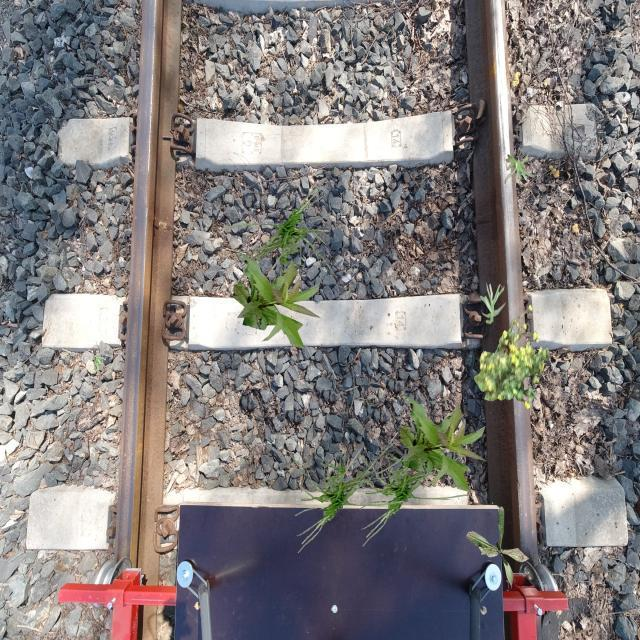Plant: (219, 177, 338, 300), (287, 431, 406, 554), (352, 424, 470, 546), (233, 252, 322, 350), (399, 395, 488, 492), (474, 305, 549, 410), (466, 506, 530, 590), (480, 283, 507, 325), (504, 153, 536, 188), (92, 356, 106, 372)
